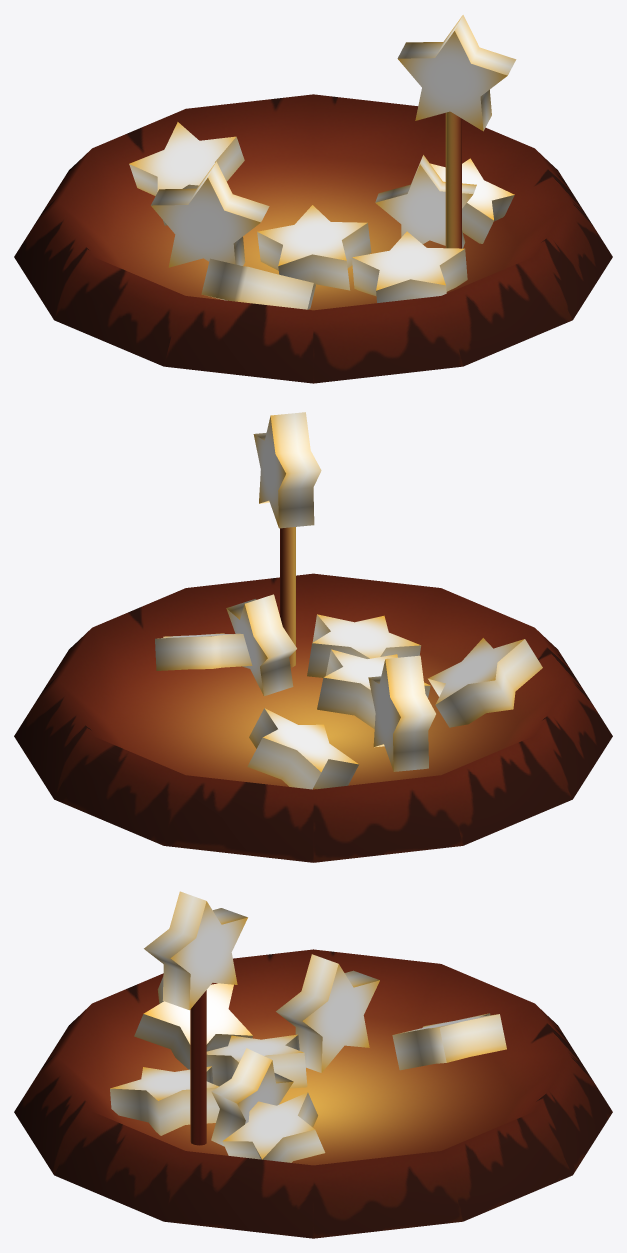
The model's file is star_little.FBX.
3 renders of one model, top to bottom at view 1: azimuth 30°, elevation 25°; view 2: azimuth 150°, elevation 25°; view 3: azimuth 270°, elevation 25°, orthographic.
Parts seen in each view (by area): view 1: Cylinder001; view 2: Cylinder001; view 3: Cylinder001.
Part boxes in pixels (x1,y1,x2,y2): Cylinder001: (14,15,612,383); Cylinder001: (14,412,612,862); Cylinder001: (14,891,612,1238).
Size of the model in its own units: 96.48 by 46.19 by 96.48.
